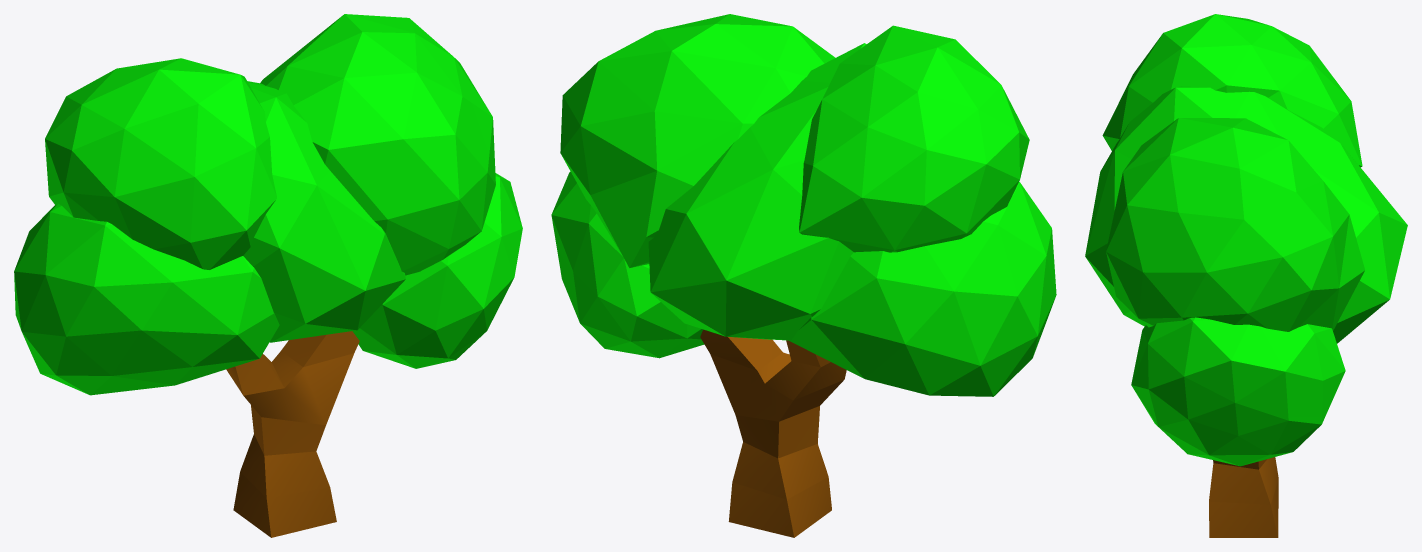
File: Tree7.dae
The picture shows the model from 3 angles, left to right: view 1: azimuth 30°, elevation 25°; view 2: azimuth 150°, elevation 25°; view 3: azimuth 270°, elevation 25°; orthographic projection. The views are drawn at different scales.
Parts seen in each view (by area): view 1: Tree7; view 2: Tree7; view 3: Tree7.
Boxes of the visible parts, x1,y1,x2,y2 form: Tree7: (14,14,522,537); Tree7: (551,14,1056,537); Tree7: (1085,14,1407,537).
Bounding box in the file's own units: 3.61 × 3.55 × 2.32.
